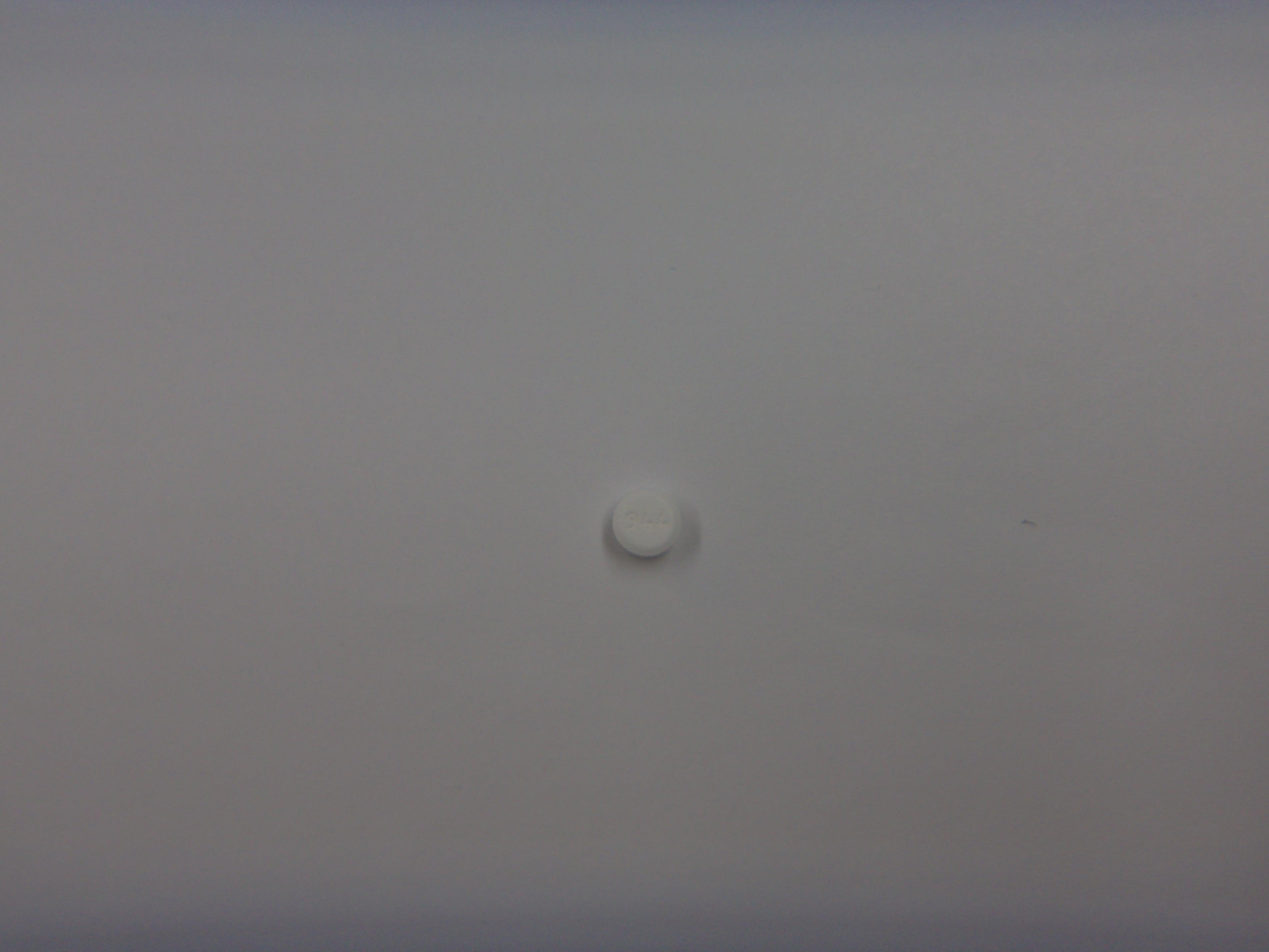Pill: (601, 478, 693, 567)
